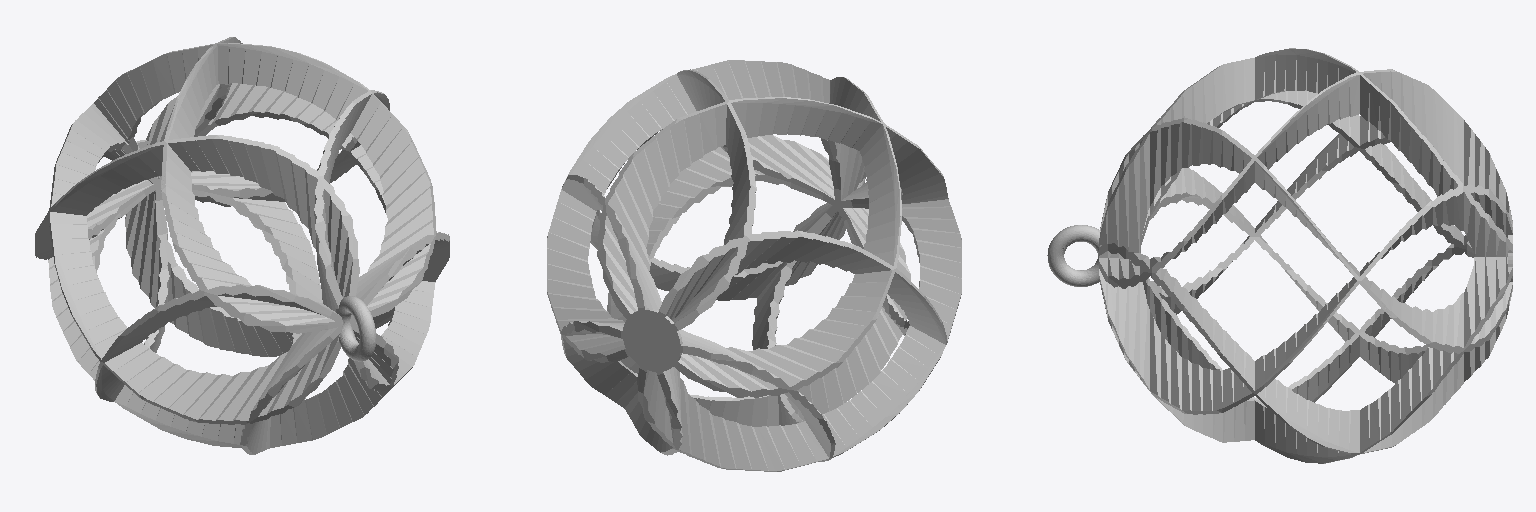
Rendered from spiral_ornament.obj.
3 renders of one model, left to right at view 1: azimuth 30°, elevation 25°; view 2: azimuth 150°, elevation 25°; view 3: azimuth 270°, elevation 25°, orthographic.
Visible parts, largest first — view 1: Spiral_Ornament; view 2: Spiral_Ornament; view 3: Spiral_Ornament.
Boxes of the visible parts, <box> form: Spiral_Ornament: <box>35,37,449,454</box>; Spiral_Ornament: <box>547,60,961,471</box>; Spiral_Ornament: <box>1047,48,1512,463</box>.
Bounding box in the file's own units: 49.73 × 48.7 × 55.5.